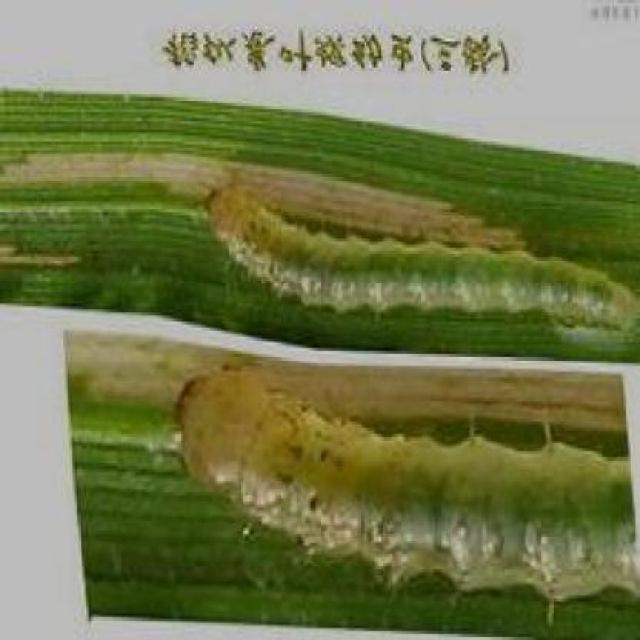leaf-folder: (158, 366, 640, 640), (186, 151, 640, 352)
